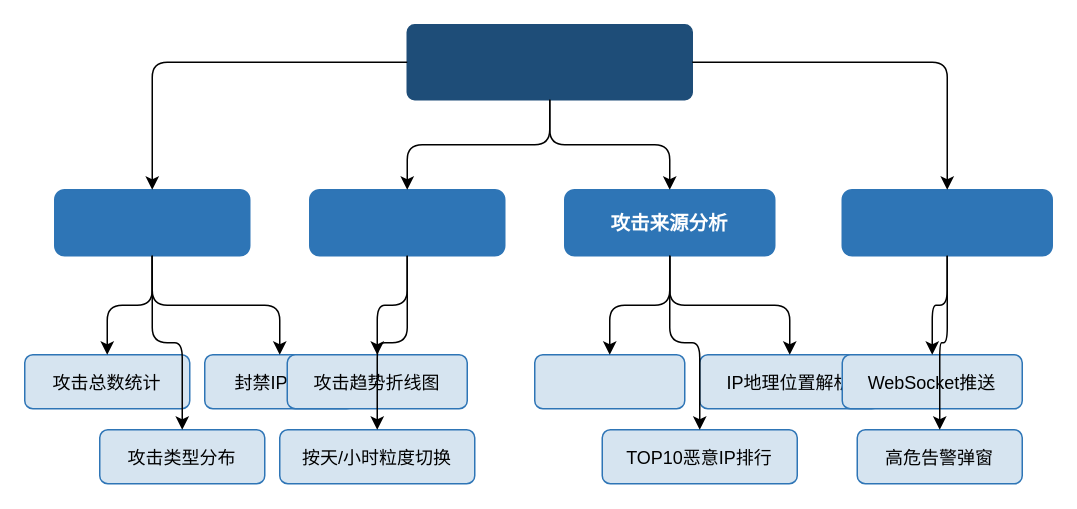
Image size: 1077x509. Some labels were removed from this diagram. The centre of each missing label's shape, as x and y in pixels:
"地理热力图" belongs at point (609, 381).
"实时告警推送" belongs at point (946, 222).
"攻击总览" belongs at point (151, 222).
"数据可视化模块" belongs at point (549, 61).
"趋势分析" belongs at point (406, 222).
